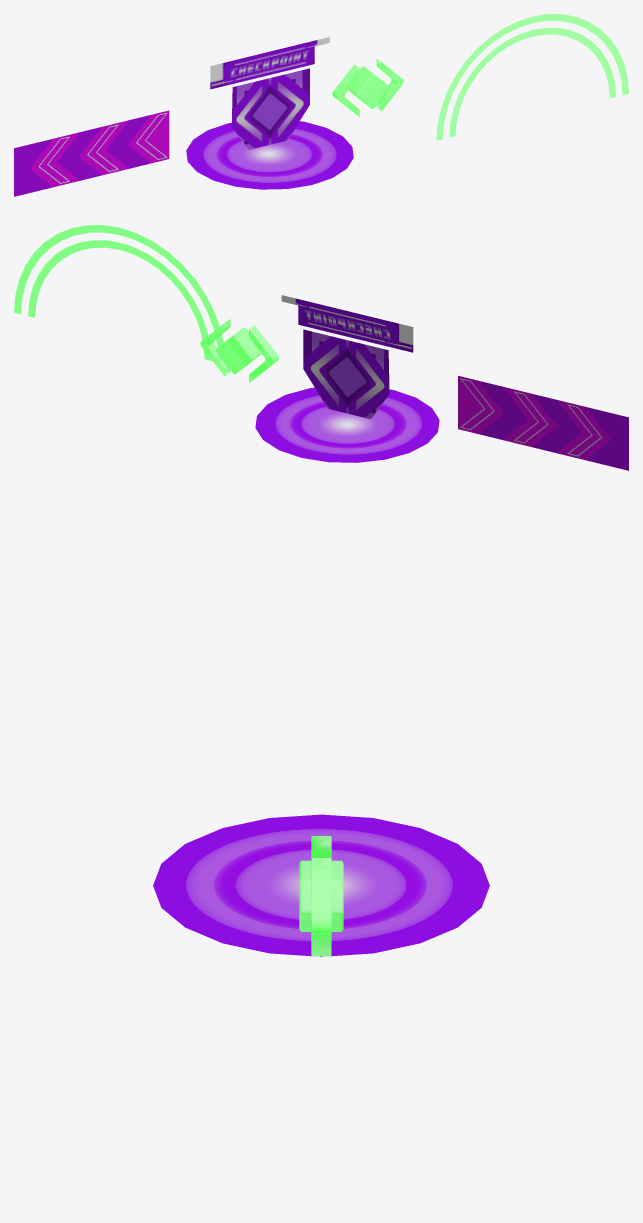
File: CheckPoint_Variations.fbx
3 renders of one model, top to bottom at view 1: azimuth 30°, elevation 25°; view 2: azimuth 150°, elevation 25°; view 3: azimuth 270°, elevation 25°, orthographic. The views are drawn at different scales.
Visible parts, largest first — view 1: Circle, Arrows, Shape, CheckPoint_03, Checkt_Point, pCube1, polySurface2, polySurface1; view 2: Circle, Arrows, Shape, CheckPoint_03, Checkt_Point, pCube1, polySurface2, polySurface1; view 3: Circle, polySurface1, pCube1.
Part boxes in pixels (x1,y1,x2,y2): Circle: (186, 121, 353, 189); Arrows: (14, 110, 169, 196); Shape: (231, 68, 309, 149); CheckPoint_03: (436, 14, 628, 140); Checkt_Point: (210, 37, 329, 89); pCube1: (348, 66, 389, 108); polySurface2: (332, 64, 359, 116); polySurface1: (376, 59, 403, 111); Circle: (255, 387, 439, 462); Arrows: (458, 375, 628, 470); Shape: (303, 329, 389, 419); CheckPoint_03: (14, 225, 223, 360); Checkt_Point: (281, 295, 413, 352); pCube1: (215, 327, 261, 374); polySurface2: (249, 325, 278, 382); polySurface1: (200, 319, 230, 376); Circle: (153, 814, 489, 956); polySurface1: (311, 858, 331, 956); pCube1: (299, 860, 343, 931).
Size of the model in its own units: 118 by 19.69 by 29.28.
